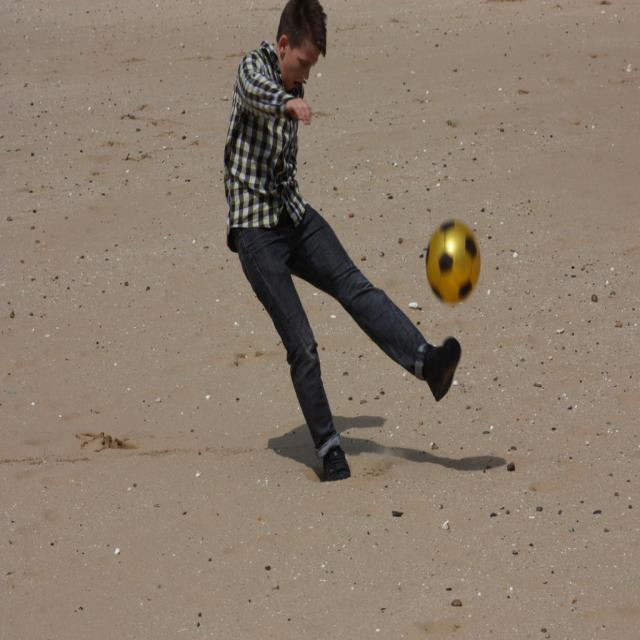ball: (424, 218, 483, 308)
